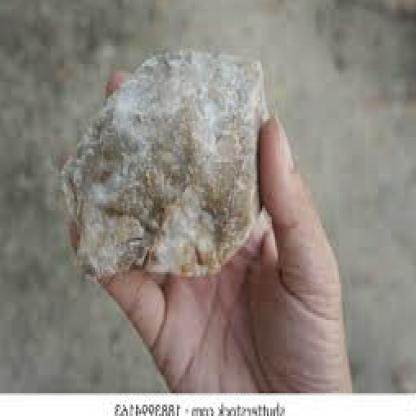Metamorphic_Quartize: (58, 41, 270, 286)
